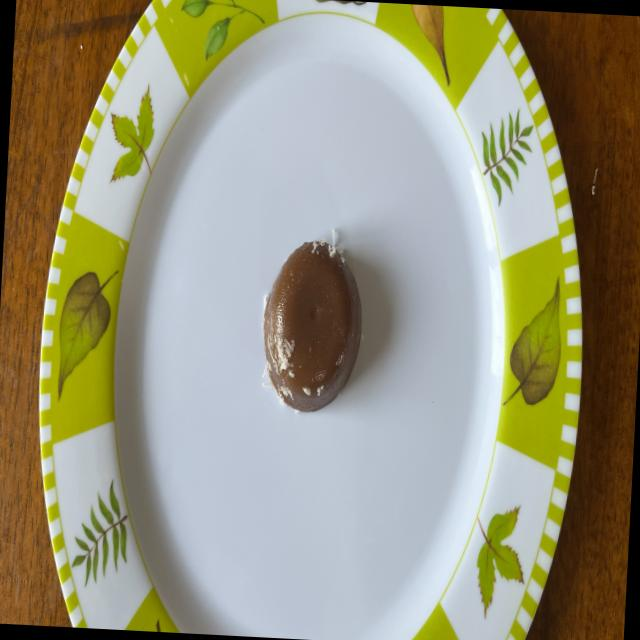Kuih lompang: (263, 238, 362, 411)
